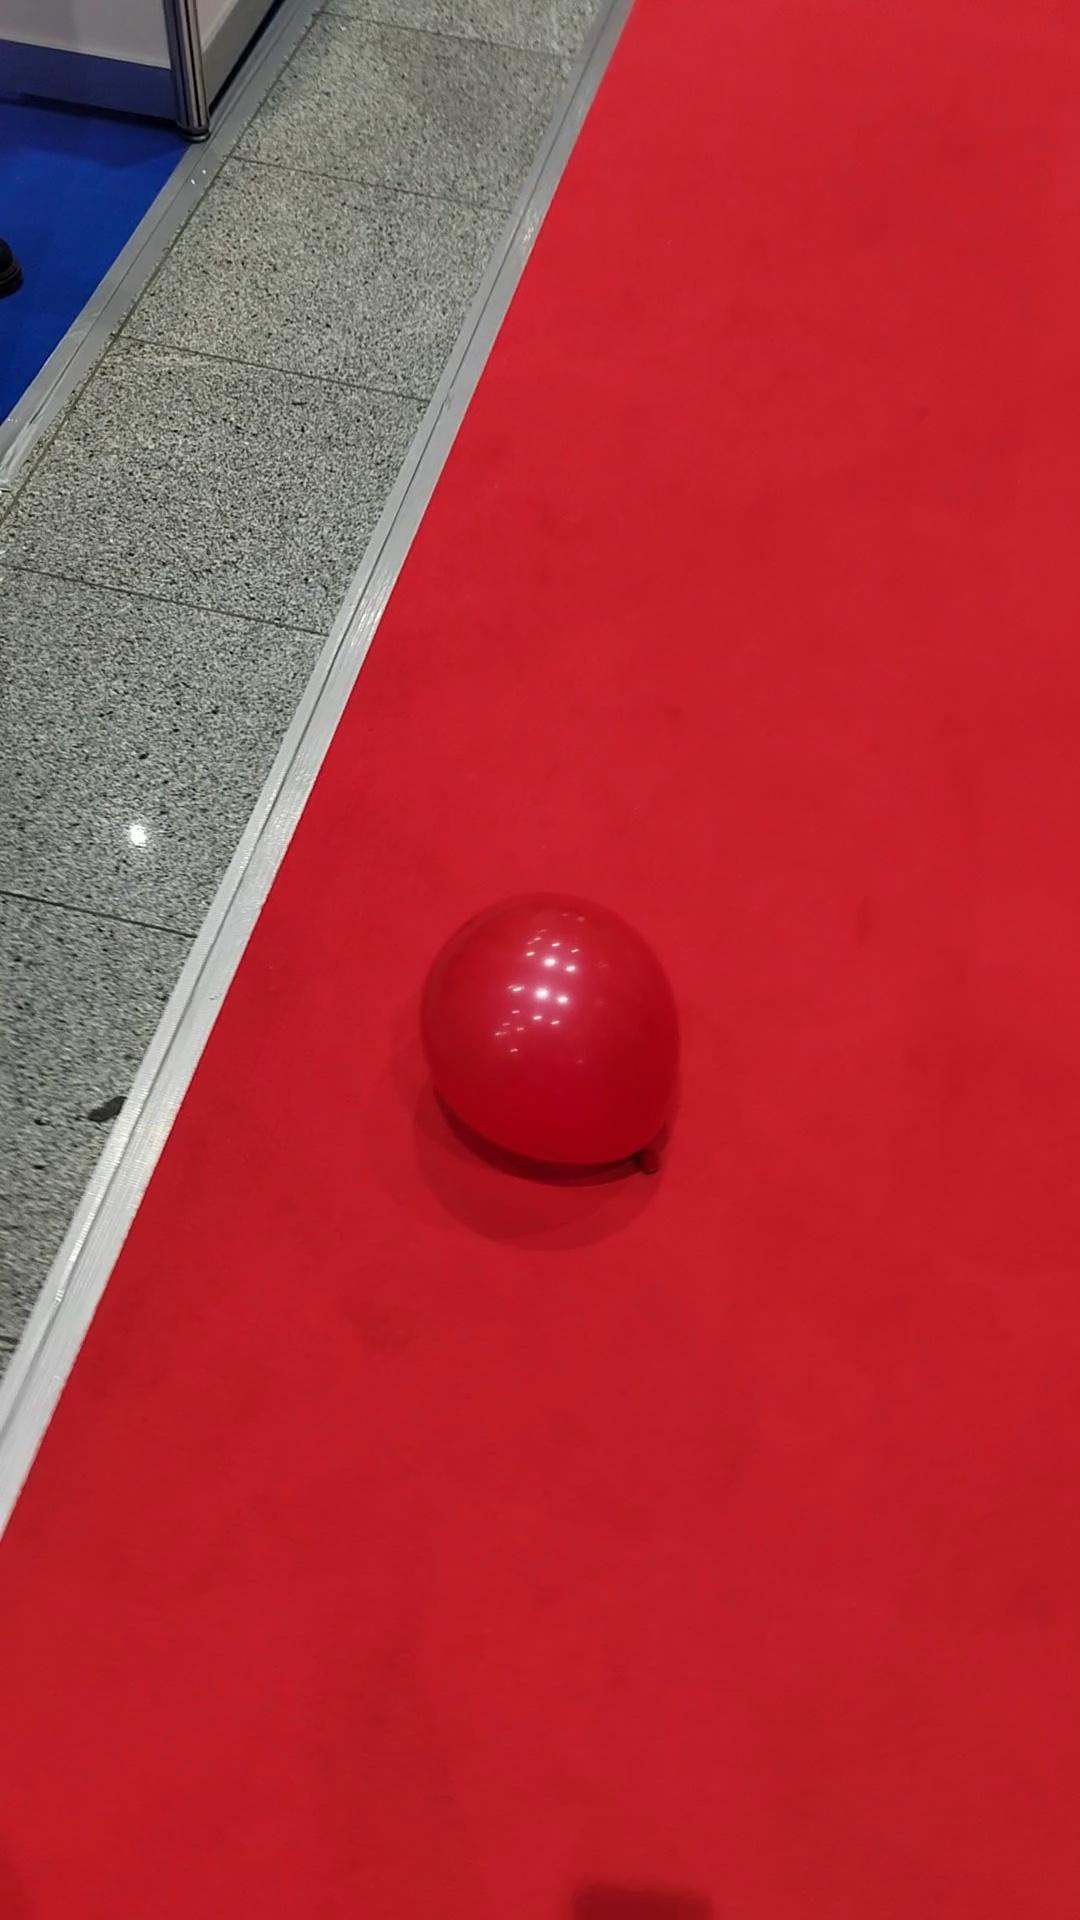red: (421, 893, 678, 1171)
